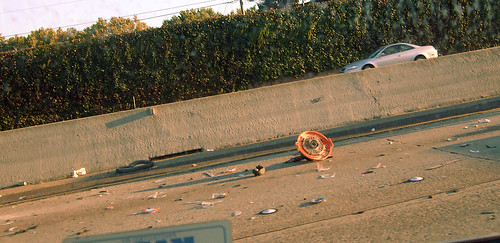car: (345, 40, 437, 84)
road: (2, 122, 500, 240)
trash: (1, 101, 492, 243)
